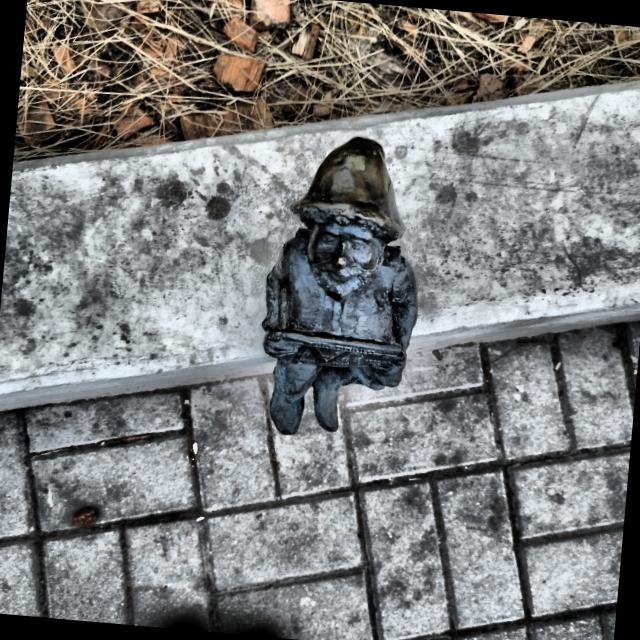Krasnal_Millenniowski: (260, 137, 419, 436)
